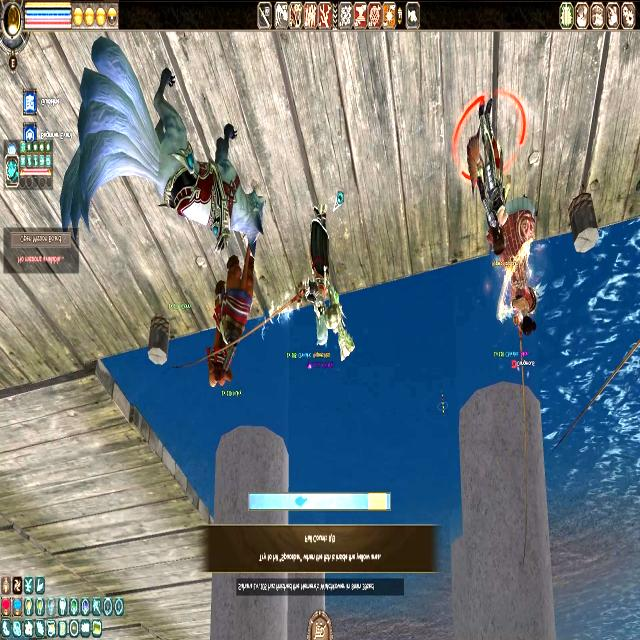fishes: (294, 496, 308, 508)
